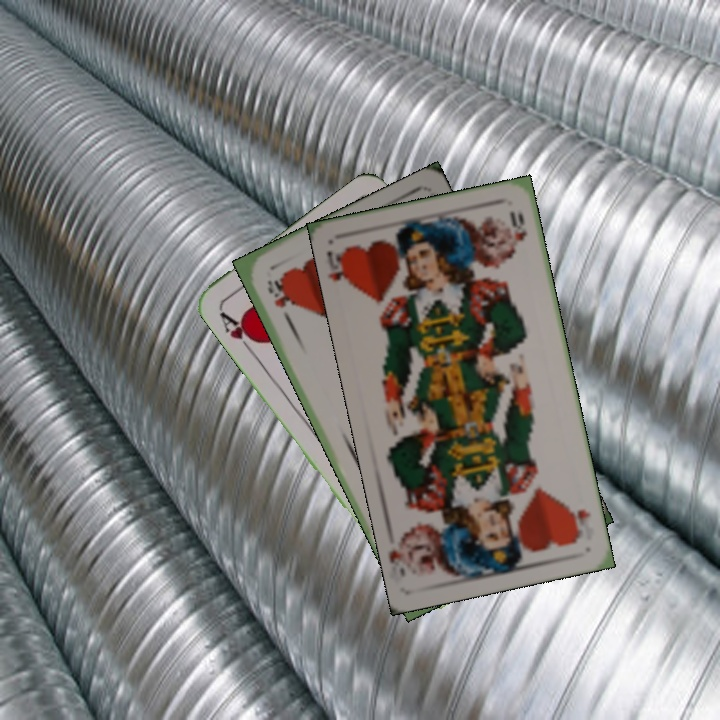HA: (215, 307, 262, 357)
HO: (262, 276, 295, 327), (322, 243, 356, 292), (565, 499, 596, 546)
